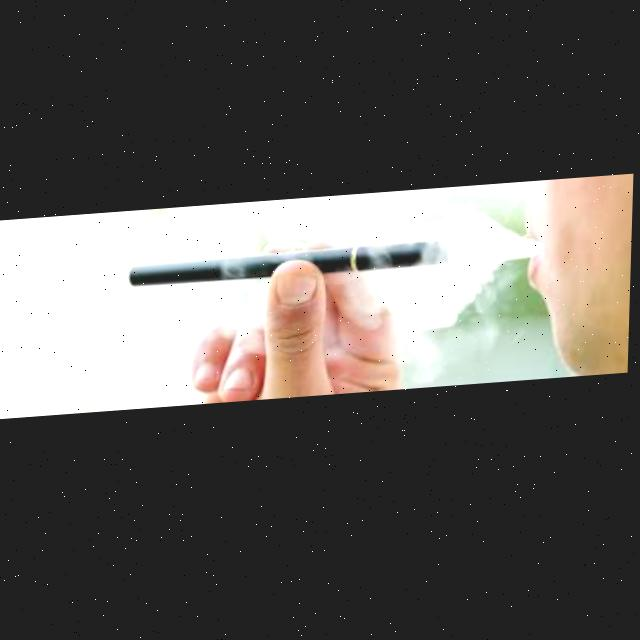vape: (131, 246, 456, 289)
